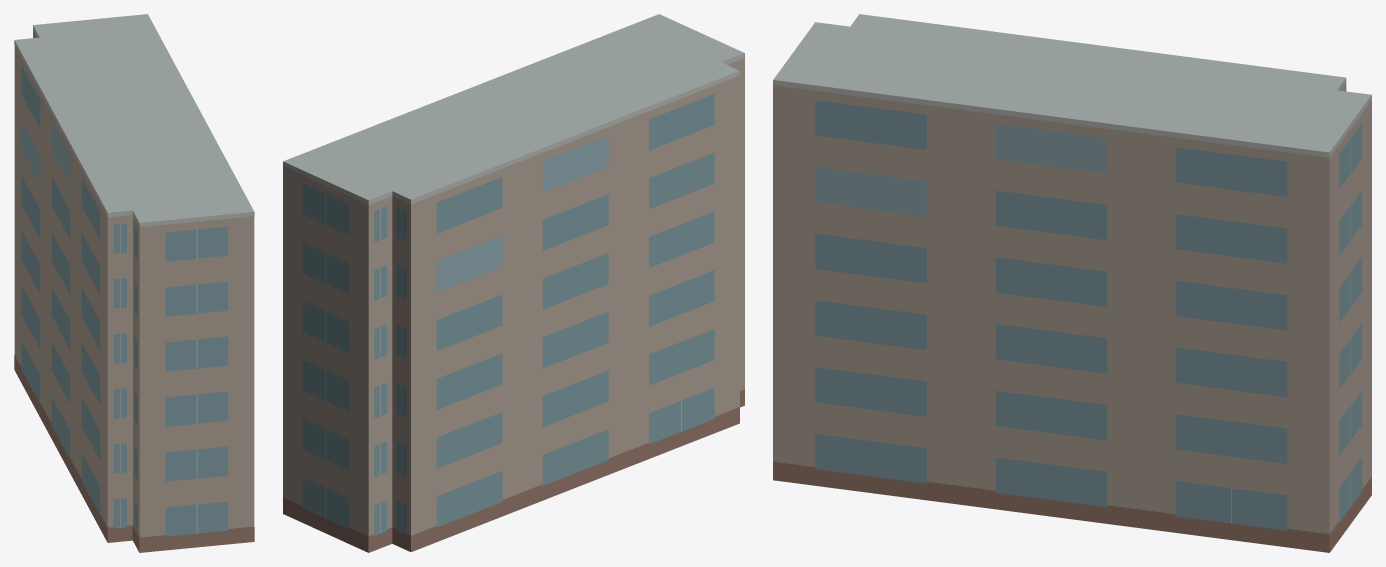
The model's file is survey-upis-32978221.glb.
3 views of the same model, side by side, from view 1: azimuth 30°, elevation 25°; view 2: azimuth 150°, elevation 25°; view 3: azimuth 270°, elevation 25° (orthographic). The views are drawn at different scales.
Parts seen in each view (by area): view 1: survey-upis-32978221.tmp; view 2: survey-upis-32978221.tmp; view 3: survey-upis-32978221.tmp.
Boxes of the visible parts, x1=… form: survey-upis-32978221.tmp: x1=14, y1=14, x2=254, y2=552; survey-upis-32978221.tmp: x1=283, y1=14, x2=744, y2=552; survey-upis-32978221.tmp: x1=773, y1=14, x2=1371, y2=552.
Size of the model in its own units: 13.62 by 18.35 by 24.88.
